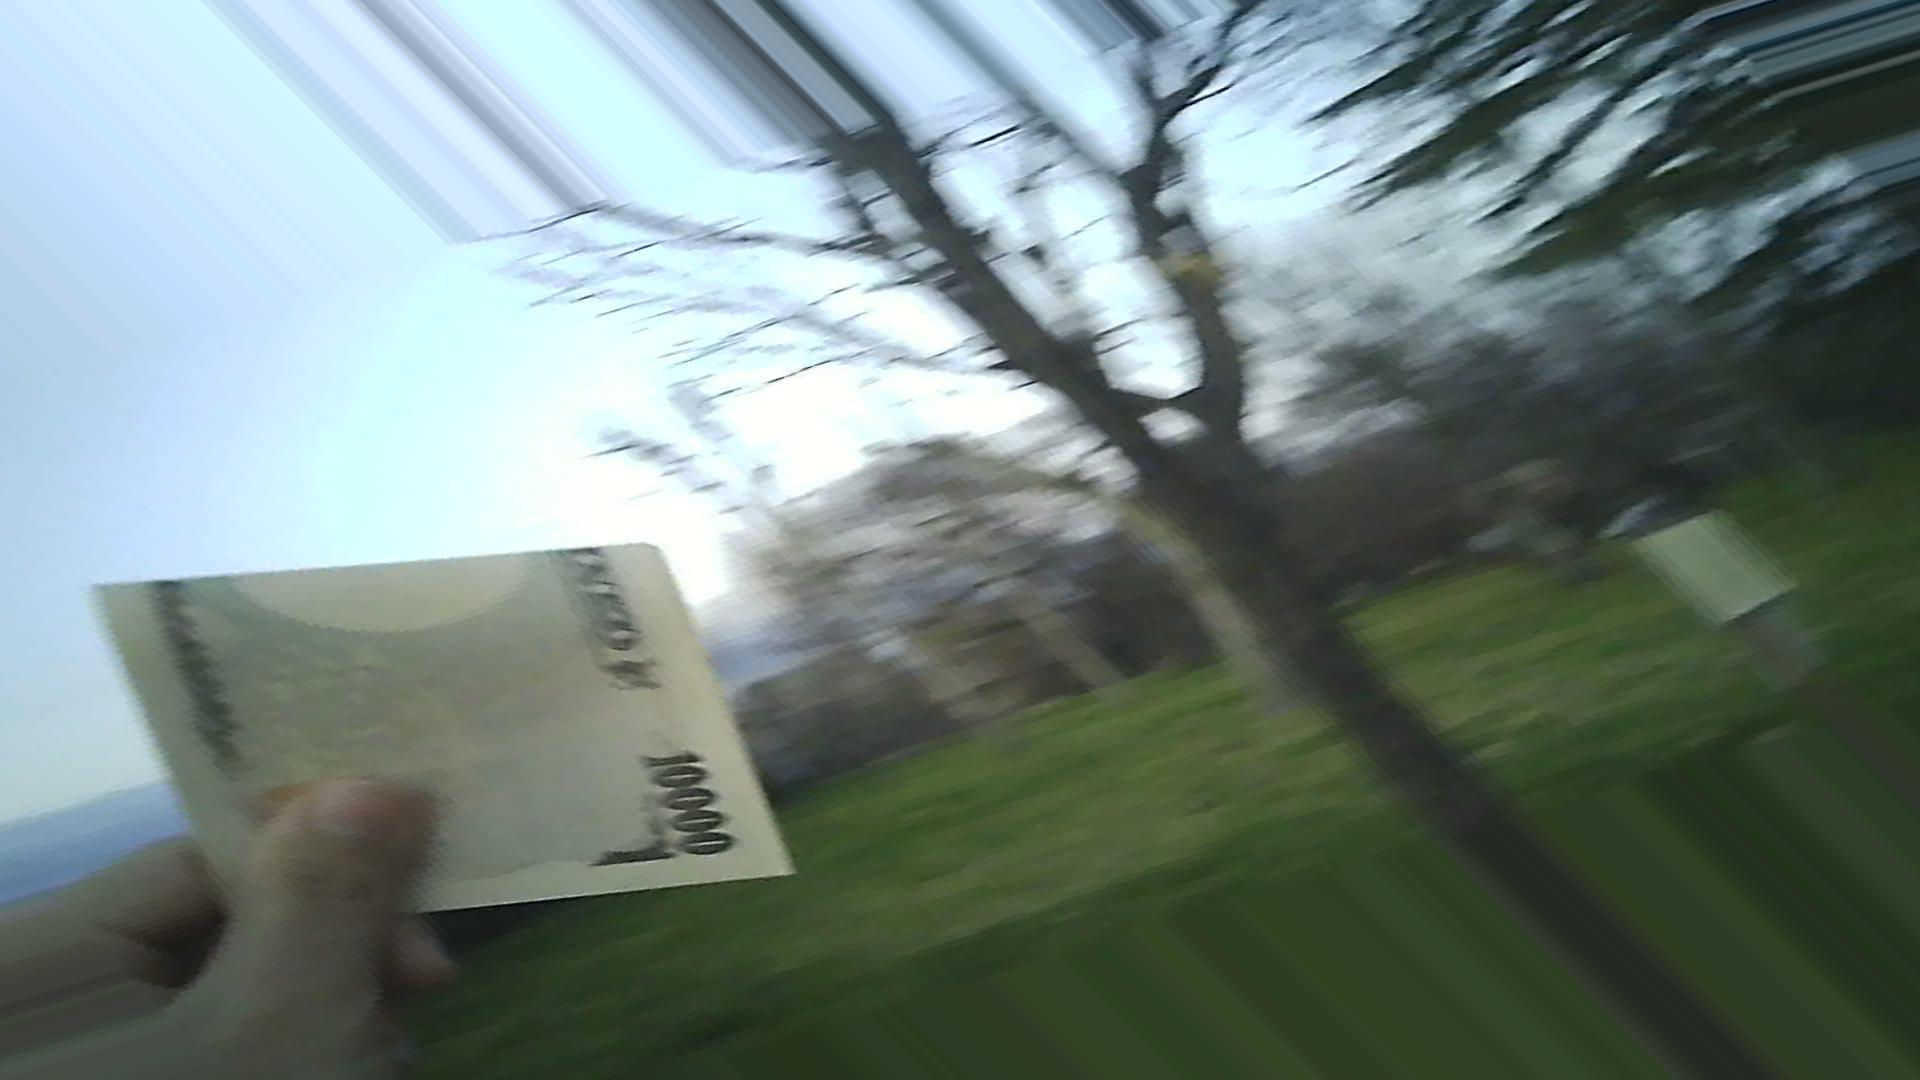10,000 Yen: (98, 530, 814, 928)
